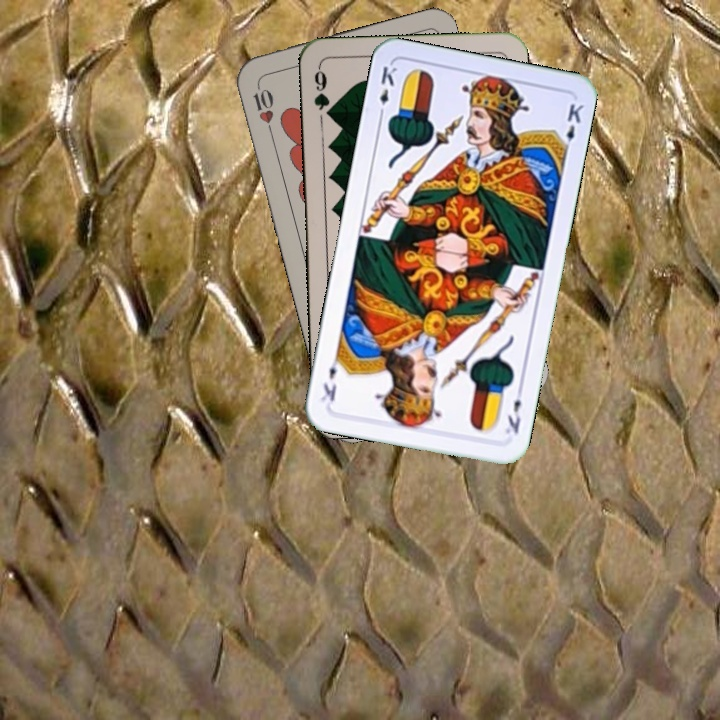EK: (374, 62, 400, 121), (501, 383, 526, 437)
G9: (310, 63, 335, 122)
H10: (249, 80, 276, 138)
